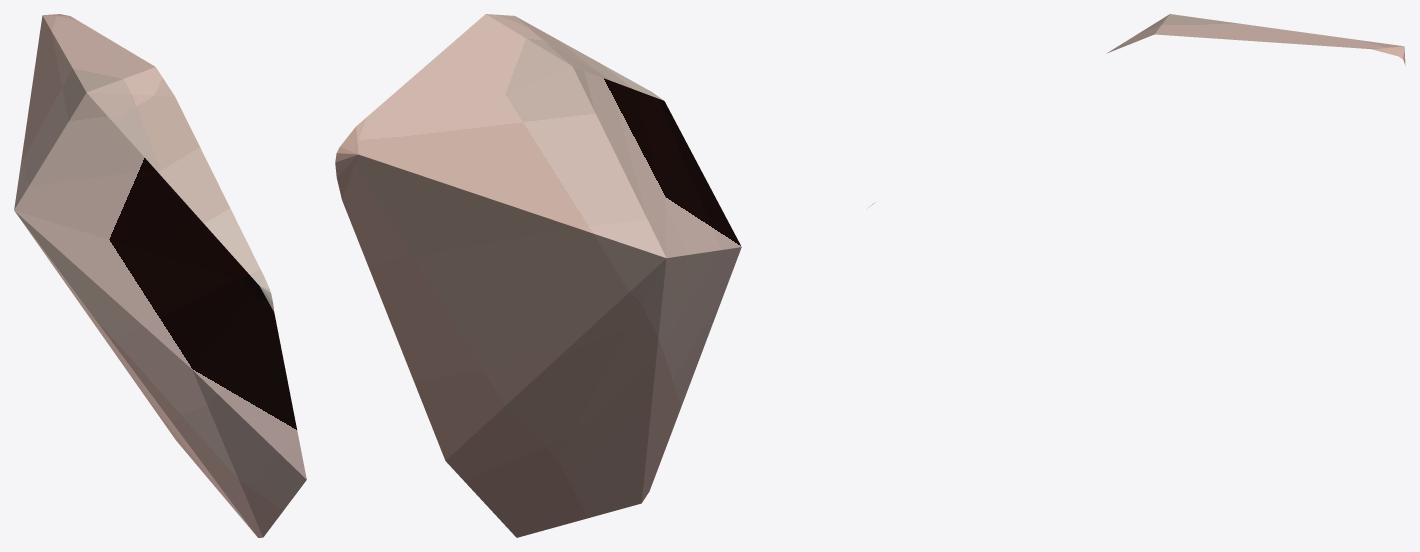
3 renders of one model, left to right at view 1: azimuth 30°, elevation 25°; view 2: azimuth 150°, elevation 25°; view 3: azimuth 270°, elevation 25°, orthographic. The views are drawn at different scales.
Size of the model in its own units: 1.83 by 5.33 by 6.09.
Materials: 1 (1 with a texture image).
